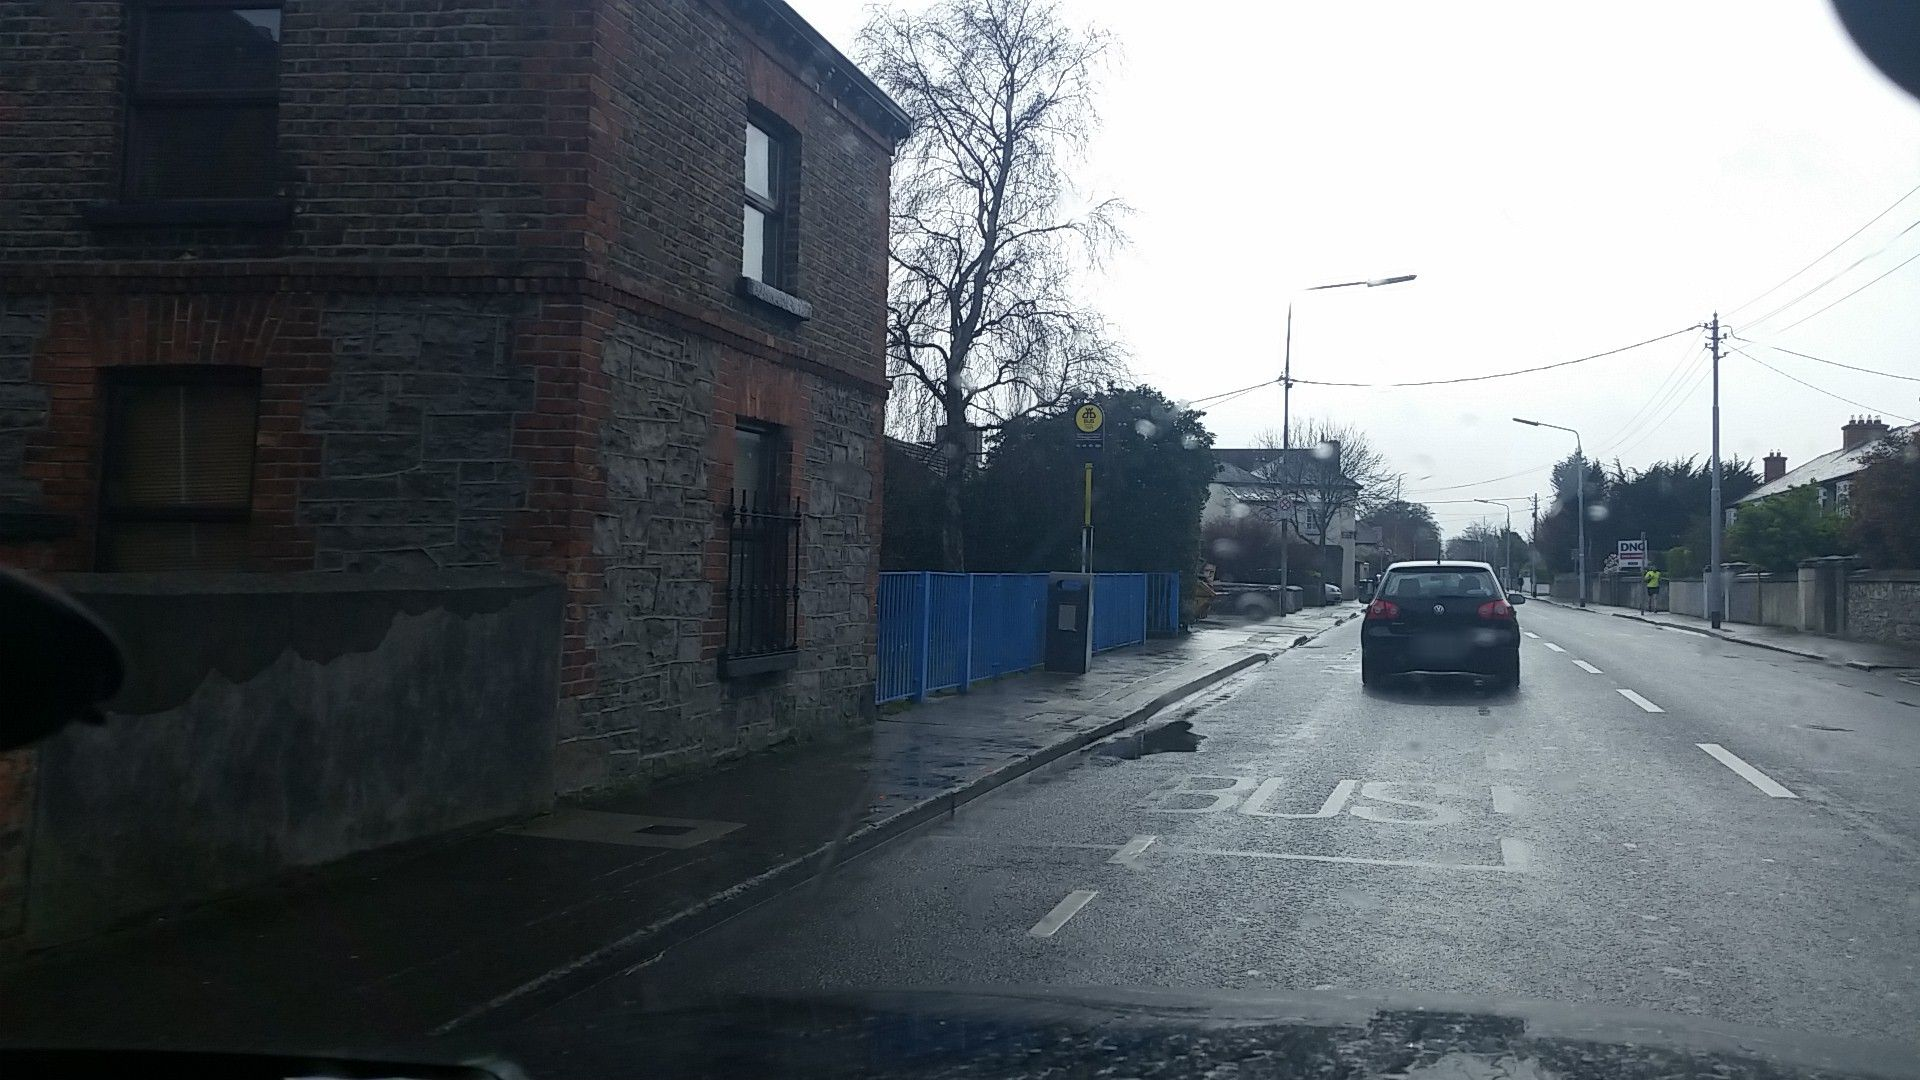property sign: (1611, 525, 1658, 574)
